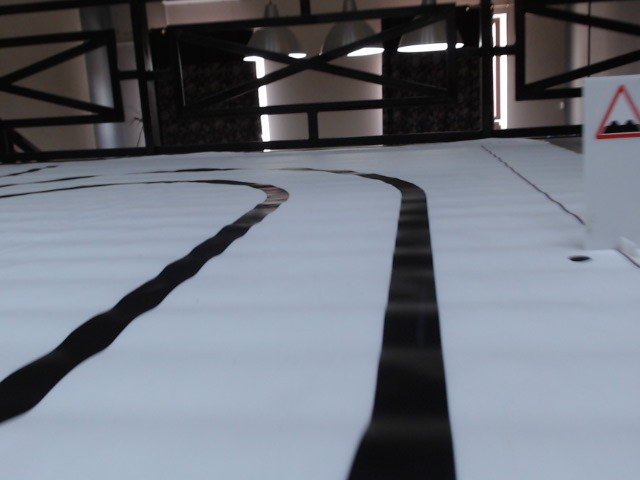Nerov: (592, 81, 640, 143)
